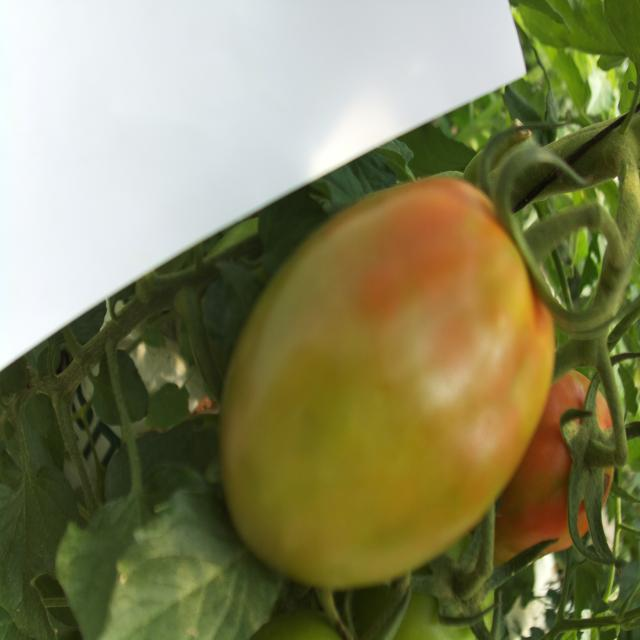yesil: (248, 173, 585, 598)
